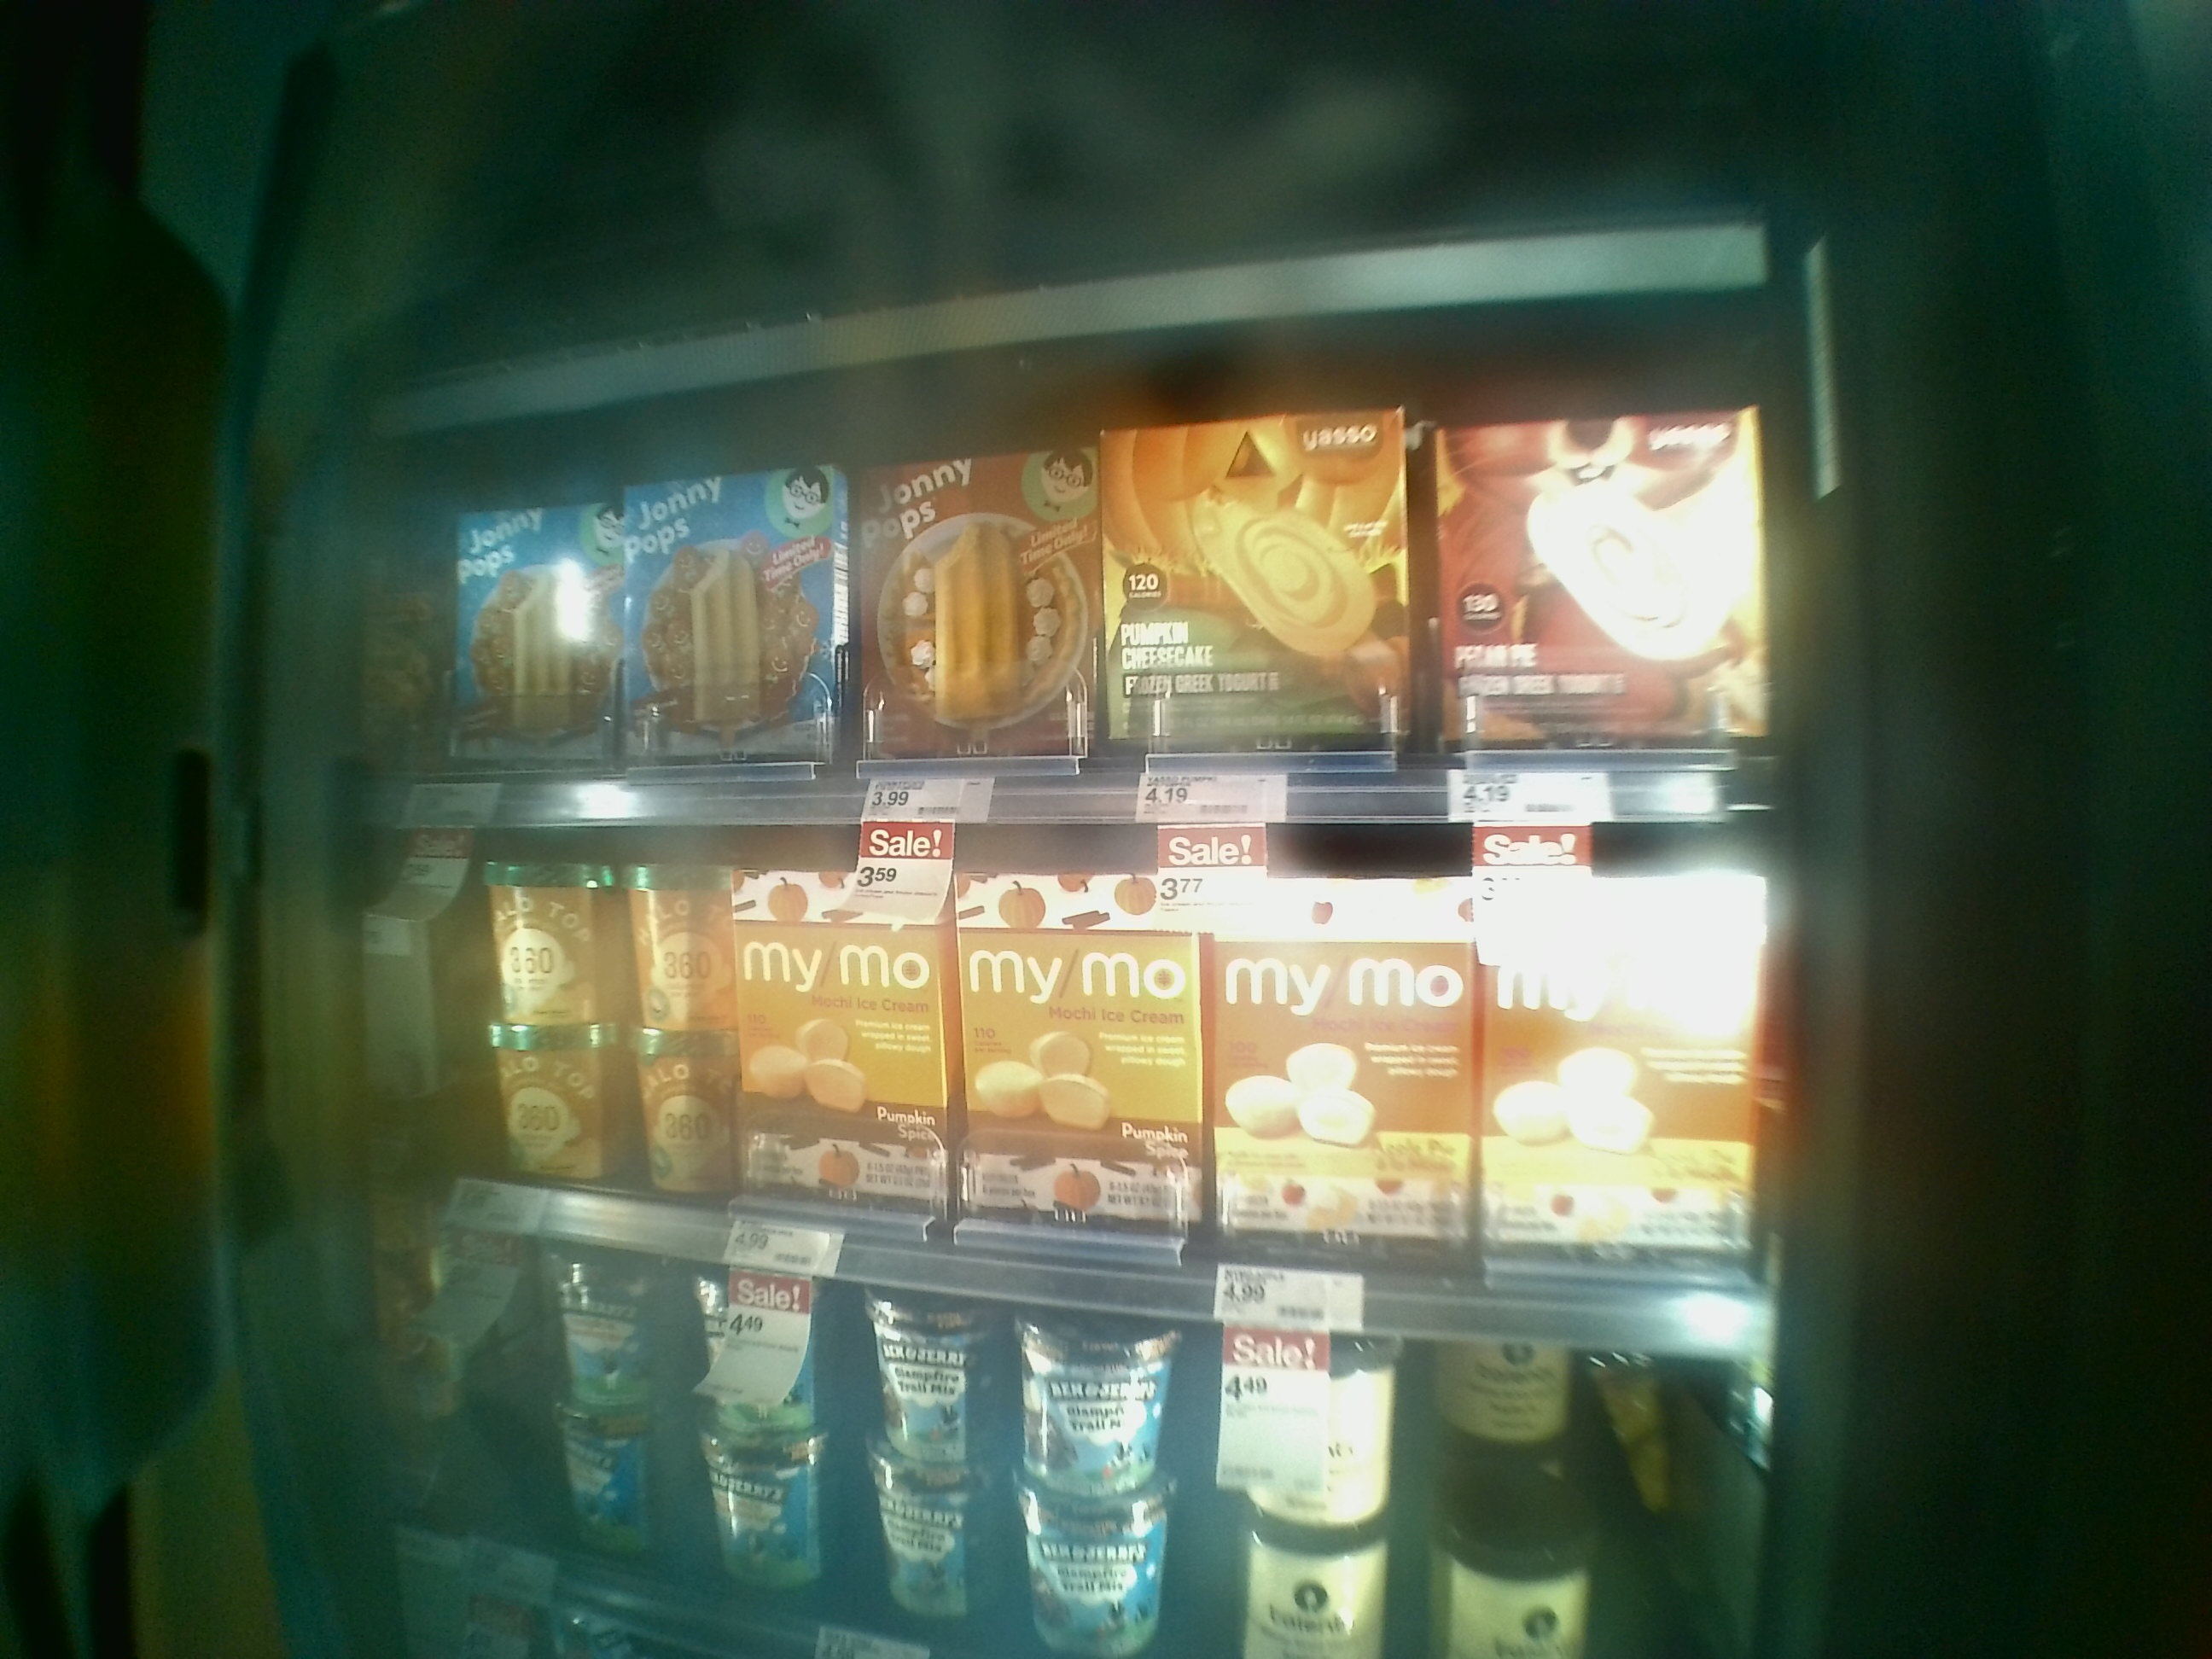shelf: (294, 779, 1804, 1368), (312, 390, 1811, 833)
